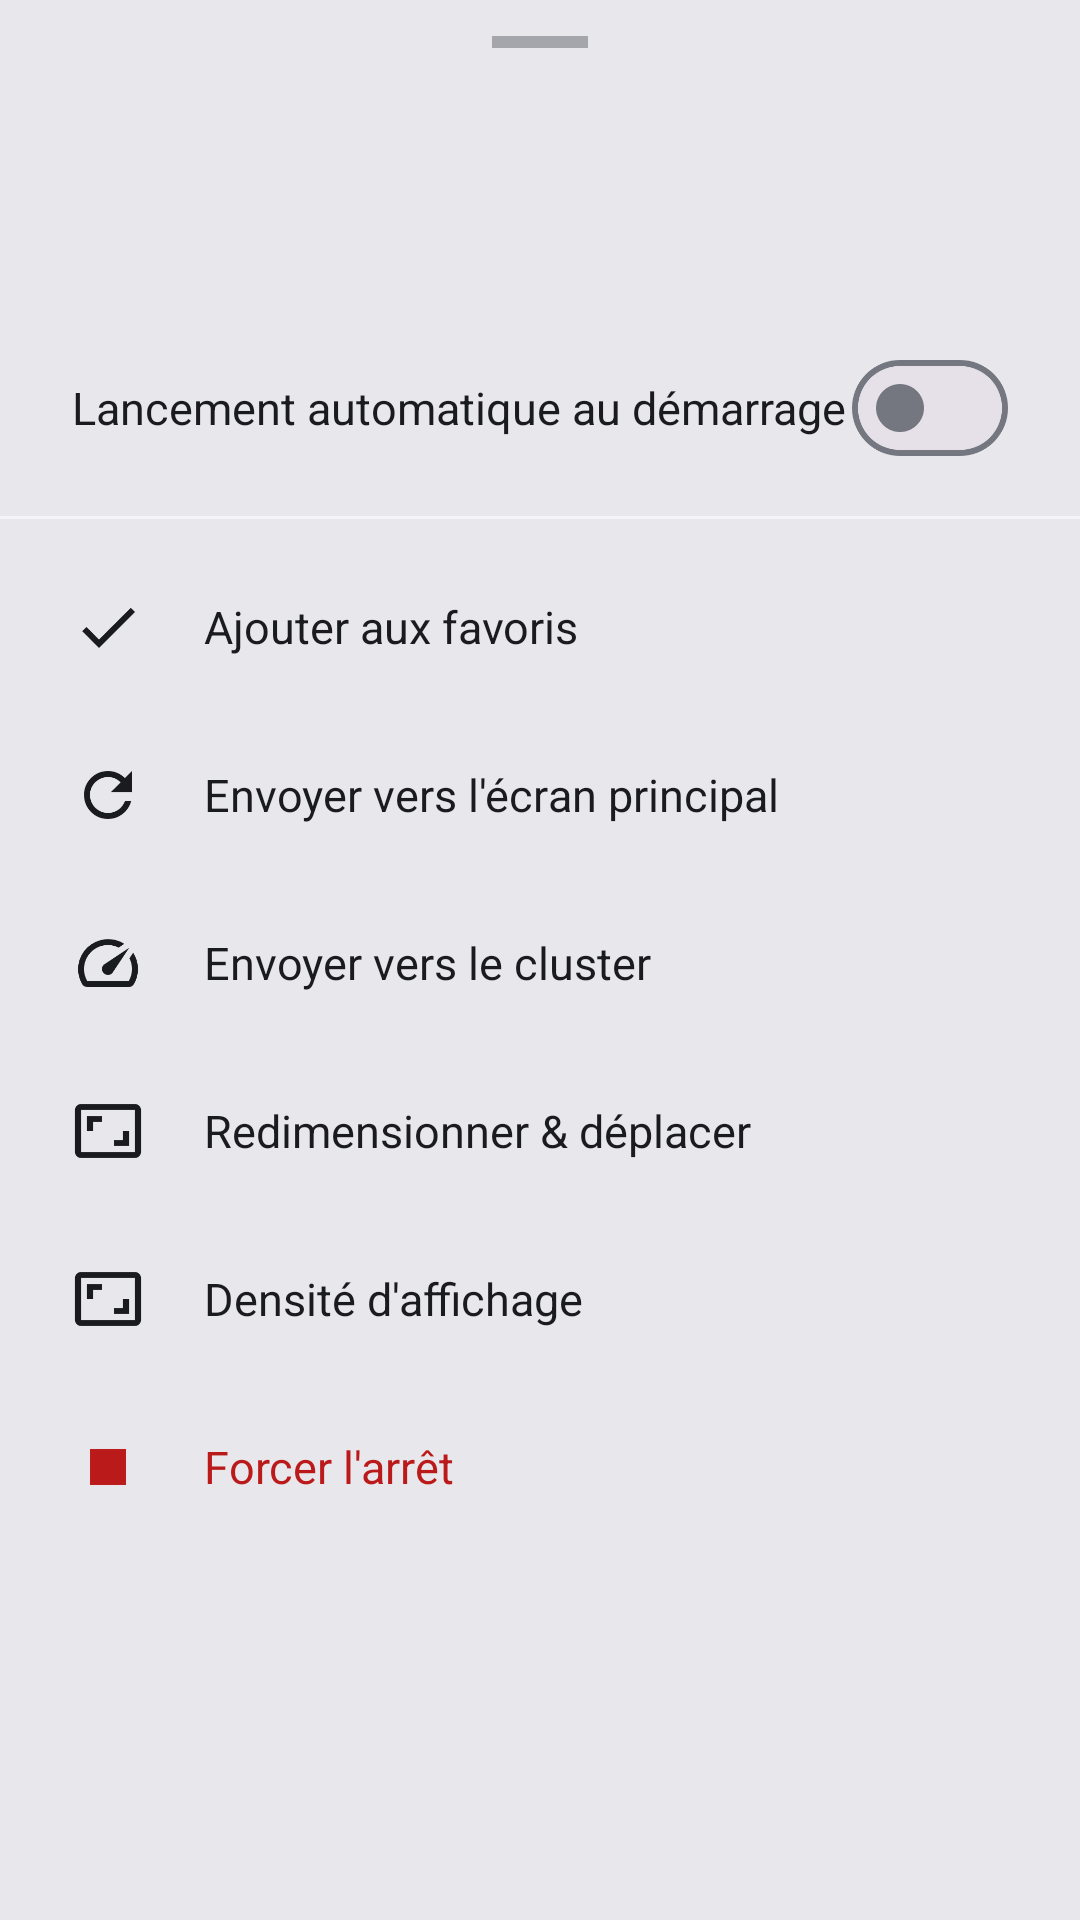

Icon bounding boxes for this 1080 × 1920 phone screenshot, format bbox=[x1, y1, x2, y2]:
aspect ratio: bbox=[75, 1104, 141, 1158], bbox=[75, 1272, 141, 1326]
check: bbox=[82, 608, 135, 648]
refresh: bbox=[84, 771, 132, 819]
speed: bbox=[78, 939, 138, 987]
